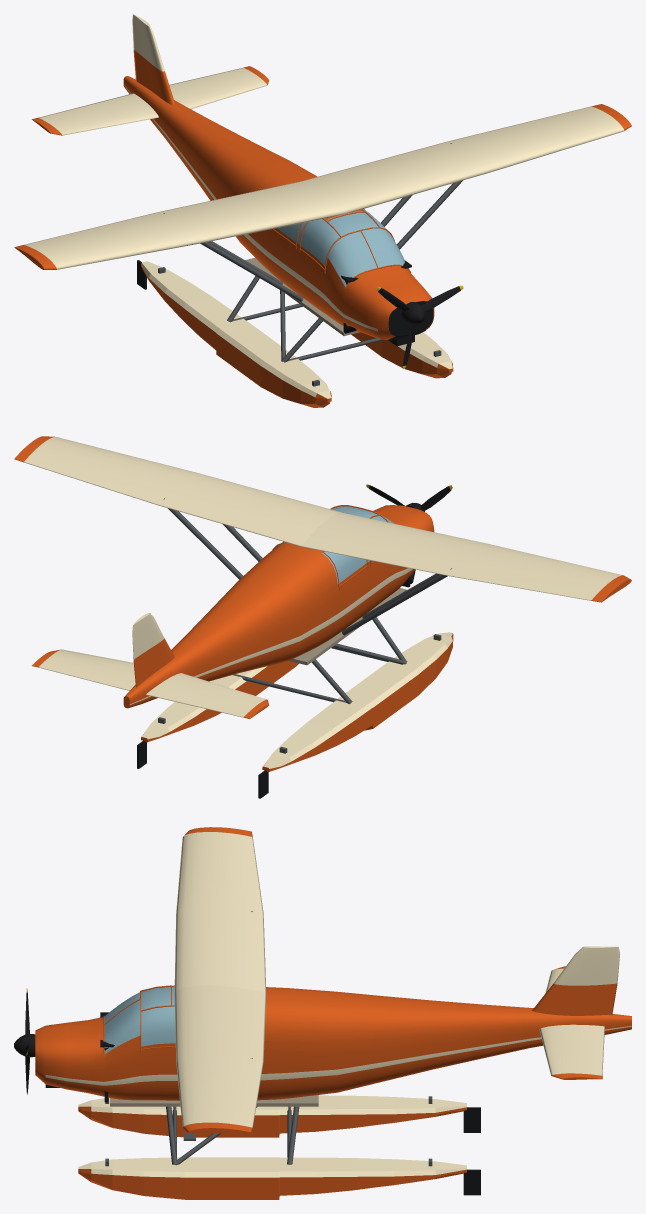
File: Petrel.glb
3 renders of one model, top to bottom at view 1: azimuth 30°, elevation 25°; view 2: azimuth 150°, elevation 25°; view 3: azimuth 270°, elevation 25°, orthographic. The views are drawn at different scales.
Parts seen in each view (by area): view 1: Fuselage, WingL, WingR, FloatR, Tail, Glass, Struts, FloatL, Propeller, Cabin; view 2: Fuselage, WingL, WingR, FloatR, Tail, Struts, FloatL, Glass, Cabin, Propeller; view 3: Fuselage, WingR, FloatL, WingL, FloatR, Tail, Glass, Struts, Cabin, Propeller.
Part boxes in pixels (<box>): Fuselage: <box>123,76,434,346</box>; WingL: <box>301,104,631,213</box>; WingR: <box>14,181,344,269</box>; FloatR: <box>137,260,331,407</box>; Tail: <box>32,14,268,135</box>; Glass: <box>276,209,404,286</box>; Struts: <box>163,143,462,362</box>; FloatL: <box>351,332,453,378</box>; Propeller: <box>376,285,463,368</box>; Cabin: <box>245,258,411,335</box>; Fuselage: <box>123,505,434,708</box>; WingL: <box>14,436,341,546</box>; WingR: <box>301,512,631,602</box>; FloatR: <box>258,632,453,798</box>; Tail: <box>32,613,268,718</box>; Struts: <box>163,498,451,703</box>; FloatL: <box>137,661,298,768</box>; Glass: <box>278,506,393,583</box>; Cabin: <box>289,576,410,665</box>; Propeller: <box>366,484,452,511</box>; Fuselage: <box>35,985,631,1100</box>; WingR: <box>174,827,266,992</box>; FloatL: <box>78,1157,480,1199</box>; WingL: <box>174,985,266,1133</box>; FloatR: <box>78,1095,480,1137</box>; Tail: <box>532,946,619,1079</box>; Glass: <box>104,986,175,1053</box>; Struts: <box>166,911,299,1165</box>; Cabin: <box>100,1012,318,1106</box>; Propeller: <box>14,988,35,1094</box>.
Bounding box in the file's own units: 11.6 × 3.98 × 10.07.
